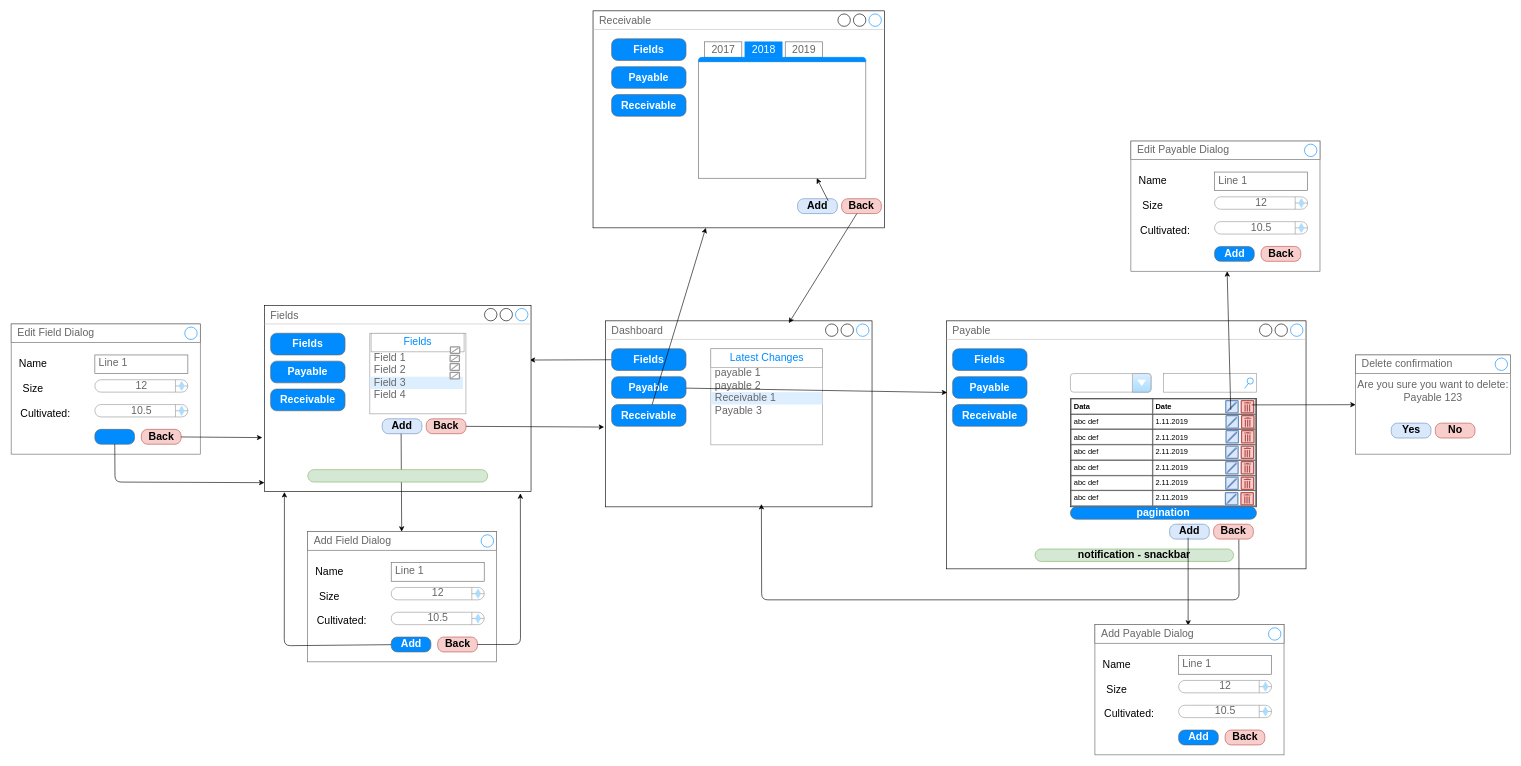
Image size: 1521x766. Some labels were removed from this diagram. Each missing label, with the centre of its shape:
"notification" belongs at point (397, 475).
"Pick Month" belongs at point (1110, 382).
"Save" belongs at point (114, 436).
"Search" belongs at point (1209, 382).
